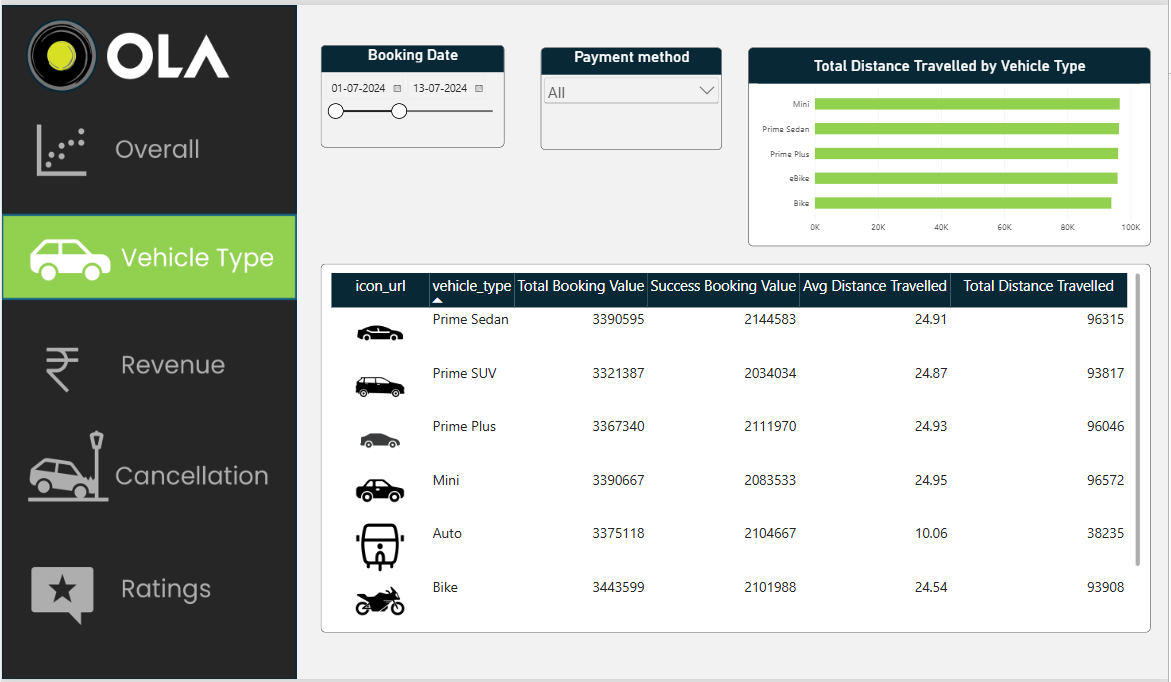

What the dashboard file says about the page in this screenshot:
{"tool":"powerbi","page":{"name":"Vehicle Type","canvas":[1920,1109],"ordinal":1},"visuals":[{"type":"tableEx","fields":{"Values":["vehicle_icons.icon_url","vehicle_icons.vehicle_type","ola_rides.Total Booking Value","ola_rides.Success Booking Value","ola_rides.Avg Distance Travelled","ola_rides.Total Distance Travelled"]},"box":[524.9,426.1,1366.7,607.2],"z":0},{"type":"clusteredBarChart","fields":{"Category":["ola_rides.Vehicle Type"],"Y":["ola_rides.Total Distance Travelled"]},"box":[1228.8,70,662.8,327.3],"z":1000},{"type":"slicer","title":"Booking Date","fields":{"Values":["ola_rides.booking_date"]},"box":[524.9,65.9,302.6,168.8],"z":2000},{"type":"slicer","title":"Payment method","fields":{"Values":["ola_rides.payment_method"]},"box":[887.1,70,298.5,168.8],"z":3000},{"type":"actionButton","box":[0,181.1,483.7,156.4],"z":4000},{"type":"actionButton","box":[0,897.4,483.7,170.8],"z":5000},{"type":"actionButton","box":[0,691.6,483.7,175],"z":6000},{"type":"actionButton","box":[0,479.6,483.7,187.3],"z":7000}]}

Visuals, with their boxes on the page's 1920x1109 design canvas (x1, y1, x2, y2). These are canvas units, not pixel positions in the 1171x682 screenshot, which may show the page scaled, cropped or inside an application window:
tableEx - vehicle_icons.icon_url x vehicle_icons.vehicle_type: [x1=525, y1=426, x2=1892, y2=1033]
clusteredBarChart - ola_rides.Vehicle Type x ola_rides.Total Distance Travelled: [x1=1229, y1=70, x2=1892, y2=397]
"Booking Date" slicer: [x1=525, y1=66, x2=828, y2=235]
"Payment method" slicer: [x1=887, y1=70, x2=1186, y2=239]
actionButton: [x1=0, y1=181, x2=484, y2=338]
actionButton: [x1=0, y1=897, x2=484, y2=1068]
actionButton: [x1=0, y1=692, x2=484, y2=867]
actionButton: [x1=0, y1=480, x2=484, y2=667]
